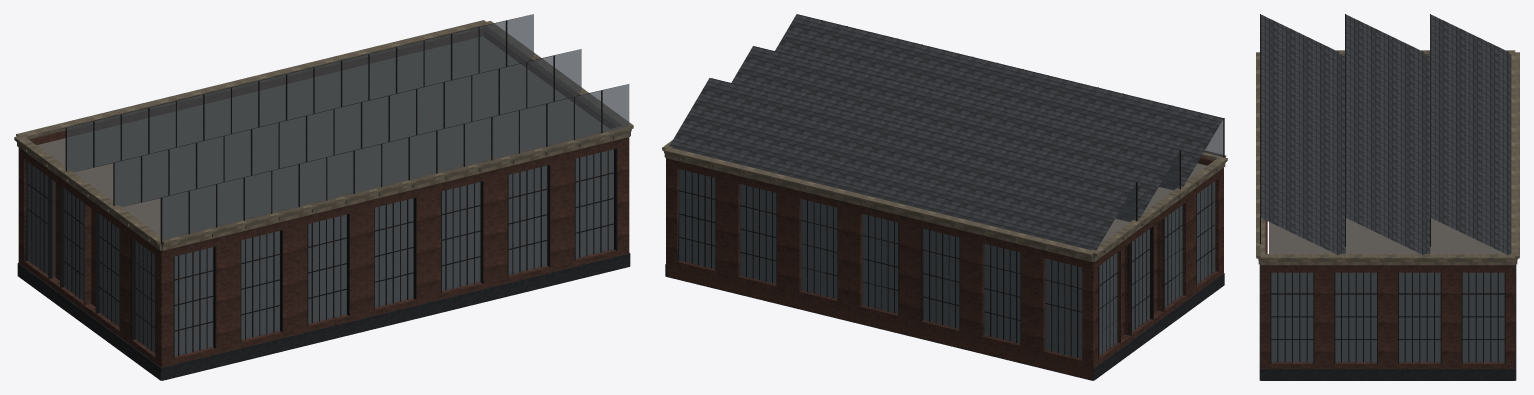
Rendered from B_joinershop.glb.
The picture shows the model from 3 angles, left to right: view 1: azimuth 30°, elevation 25°; view 2: azimuth 150°, elevation 25°; view 3: azimuth 270°, elevation 25°; orthographic projection. The views are drawn at different scales.
Parts seen in each view (by area): view 1: B_joinershop; view 2: B_joinershop; view 3: B_joinershop.
Part boxes in pixels (left/top/right/bottom): B_joinershop: left=14, top=14, right=633, bottom=380; B_joinershop: left=662, top=14, right=1227, bottom=380; B_joinershop: left=1256, top=14, right=1519, bottom=380.
Bounding box in the file's own units: 34.64 × 12.69 × 18.64.
Materials: 7 (5 with a texture image).
